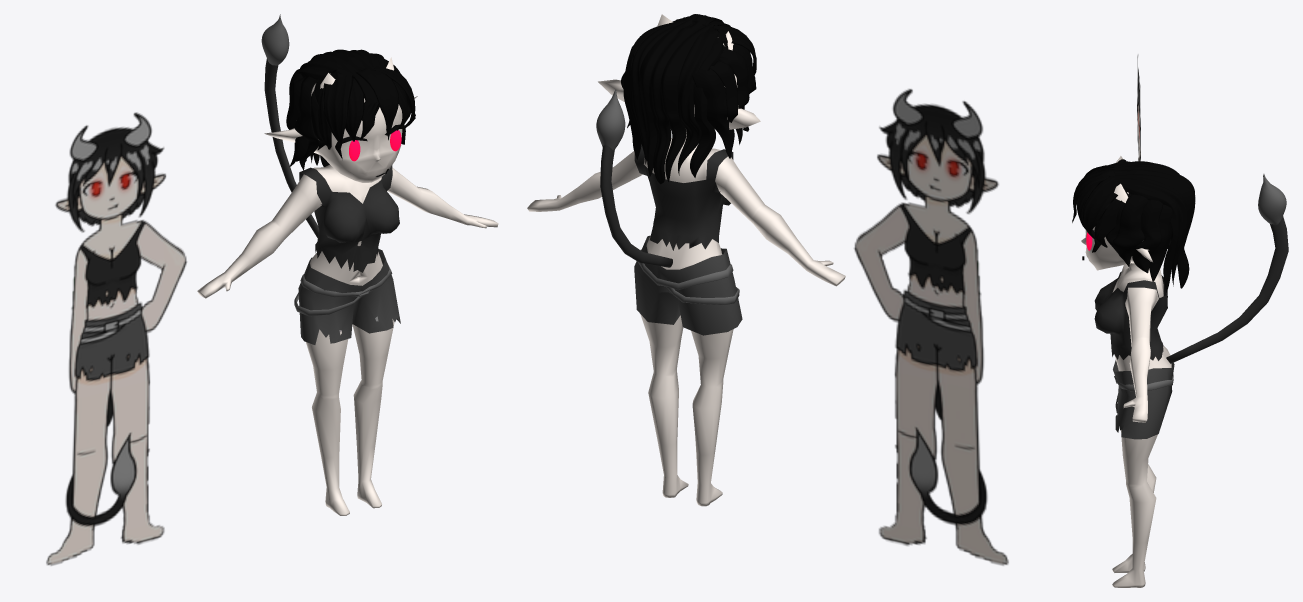
File: eridan__fan_model.glb
The picture shows the model from 3 angles, left to right: view 1: azimuth 30°, elevation 25°; view 2: azimuth 150°, elevation 25°; view 3: azimuth 270°, elevation 25°; orthographic projection. The views are drawn at different scales.
Visible parts, largest first — view 1: Eridan_4, Base_2, Cheveux_3, Top_5, SHort_6, Ceinture_9, Yeux_7; view 2: Eridan_4, Base_2, Cheveux_3, SHort_6, Top_5, Ceinture_9; view 3: Base_2, Cheveux_3, Top_5, SHort_6, Eridan_4, Ceinture_9.
Boxes of the visible parts, x1,y1,x2,y2 form: Eridan_4: [46, 112, 186, 565]; Base_2: [197, 14, 498, 515]; Cheveux_3: [286, 49, 415, 170]; Top_5: [299, 165, 399, 272]; SHort_6: [298, 249, 400, 344]; Ceinture_9: [294, 263, 392, 316]; Yeux_7: [335, 124, 405, 161]; Eridan_4: [854, 89, 1008, 565]; Base_2: [527, 14, 845, 506]; Cheveux_3: [621, 14, 756, 184]; SHort_6: [634, 235, 742, 335]; Top_5: [634, 144, 733, 250]; Ceinture_9: [637, 249, 739, 305]; Base_2: [1081, 156, 1288, 587]; Cheveux_3: [1072, 159, 1195, 292]; Top_5: [1094, 271, 1167, 360]; SHort_6: [1113, 360, 1174, 439]; Eridan_4: [1137, 55, 1140, 161]; Ceinture_9: [1114, 374, 1173, 391].
Size of the model in its own units: 3.84 by 3.42 by 1.62.
Materials: 12 (2 with a texture image).
